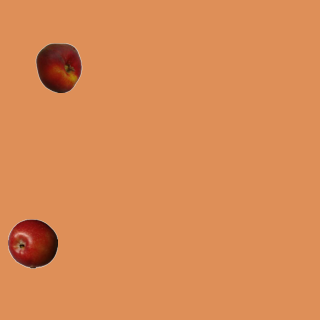Apple Braeburn: (7, 218, 57, 268)
Nectarine Flat: (33, 42, 83, 92)
